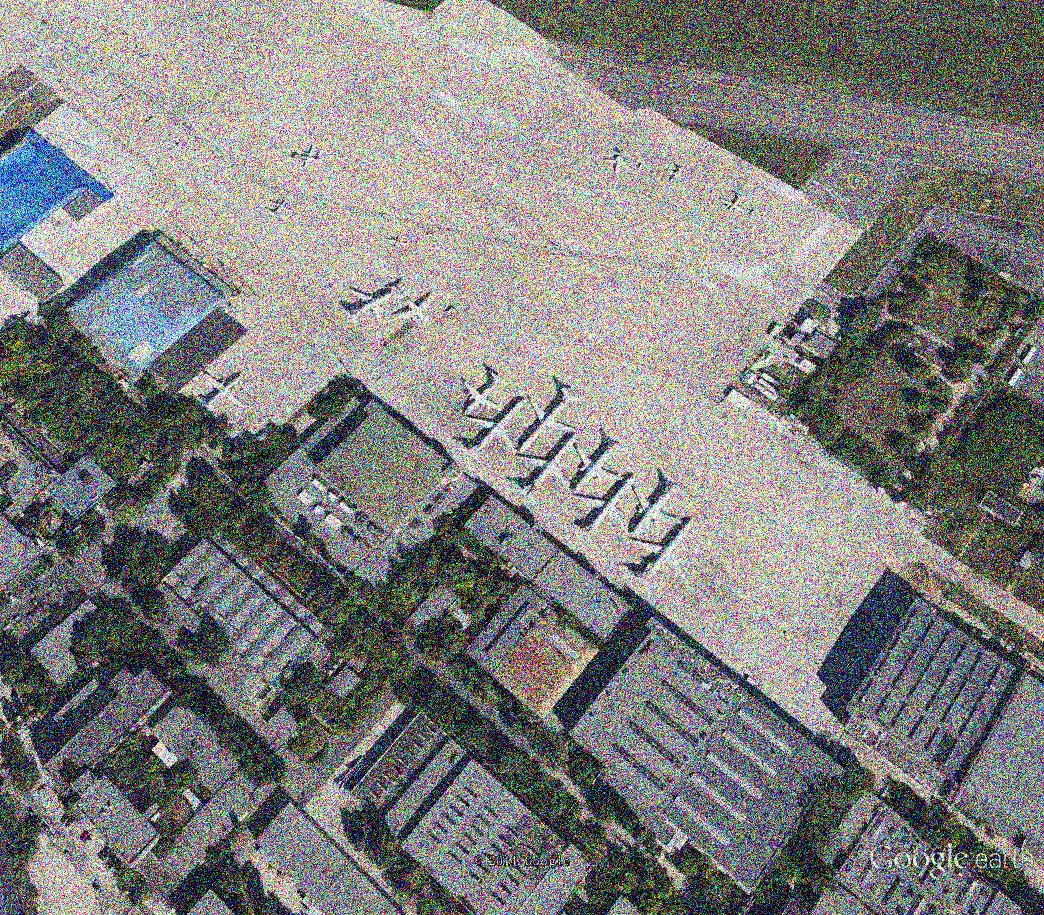aircraft: (626, 511, 698, 597), (454, 394, 531, 467), (514, 380, 587, 457), (509, 431, 582, 507), (572, 469, 645, 541), (627, 465, 690, 542), (569, 428, 628, 498), (459, 362, 514, 421), (197, 367, 247, 417), (340, 286, 397, 328), (392, 283, 437, 327), (292, 144, 323, 173), (605, 148, 633, 178), (721, 189, 750, 217), (666, 162, 689, 186), (267, 197, 292, 218), (384, 234, 411, 251), (167, 140, 185, 155), (141, 112, 157, 128), (111, 90, 128, 105)
